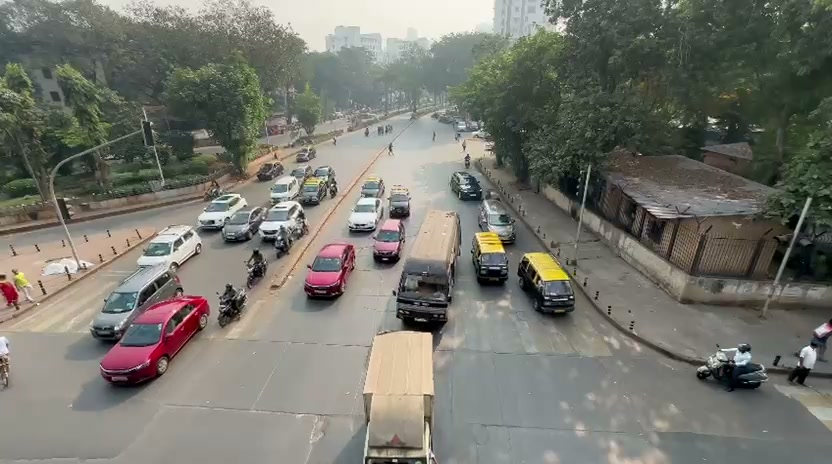car: (94, 295, 210, 387), (91, 263, 179, 341), (303, 241, 357, 299), (138, 223, 203, 269), (258, 201, 307, 245), (470, 230, 509, 285), (197, 193, 246, 231), (477, 202, 518, 244), (371, 218, 406, 264), (221, 208, 267, 243), (347, 198, 387, 234), (222, 210, 256, 243), (449, 171, 483, 201), (270, 175, 300, 202), (388, 191, 411, 219)
motorcycle: (698, 347, 767, 391), (217, 283, 246, 327), (245, 249, 267, 282)
pedestrian: (789, 342, 817, 386), (0, 275, 20, 309)
truck: (362, 330, 435, 464), (395, 208, 461, 327), (517, 251, 576, 315), (469, 231, 509, 285)
